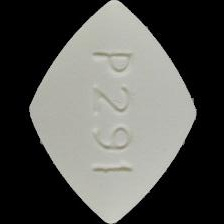54868-5214: (0, 0, 224, 224)
